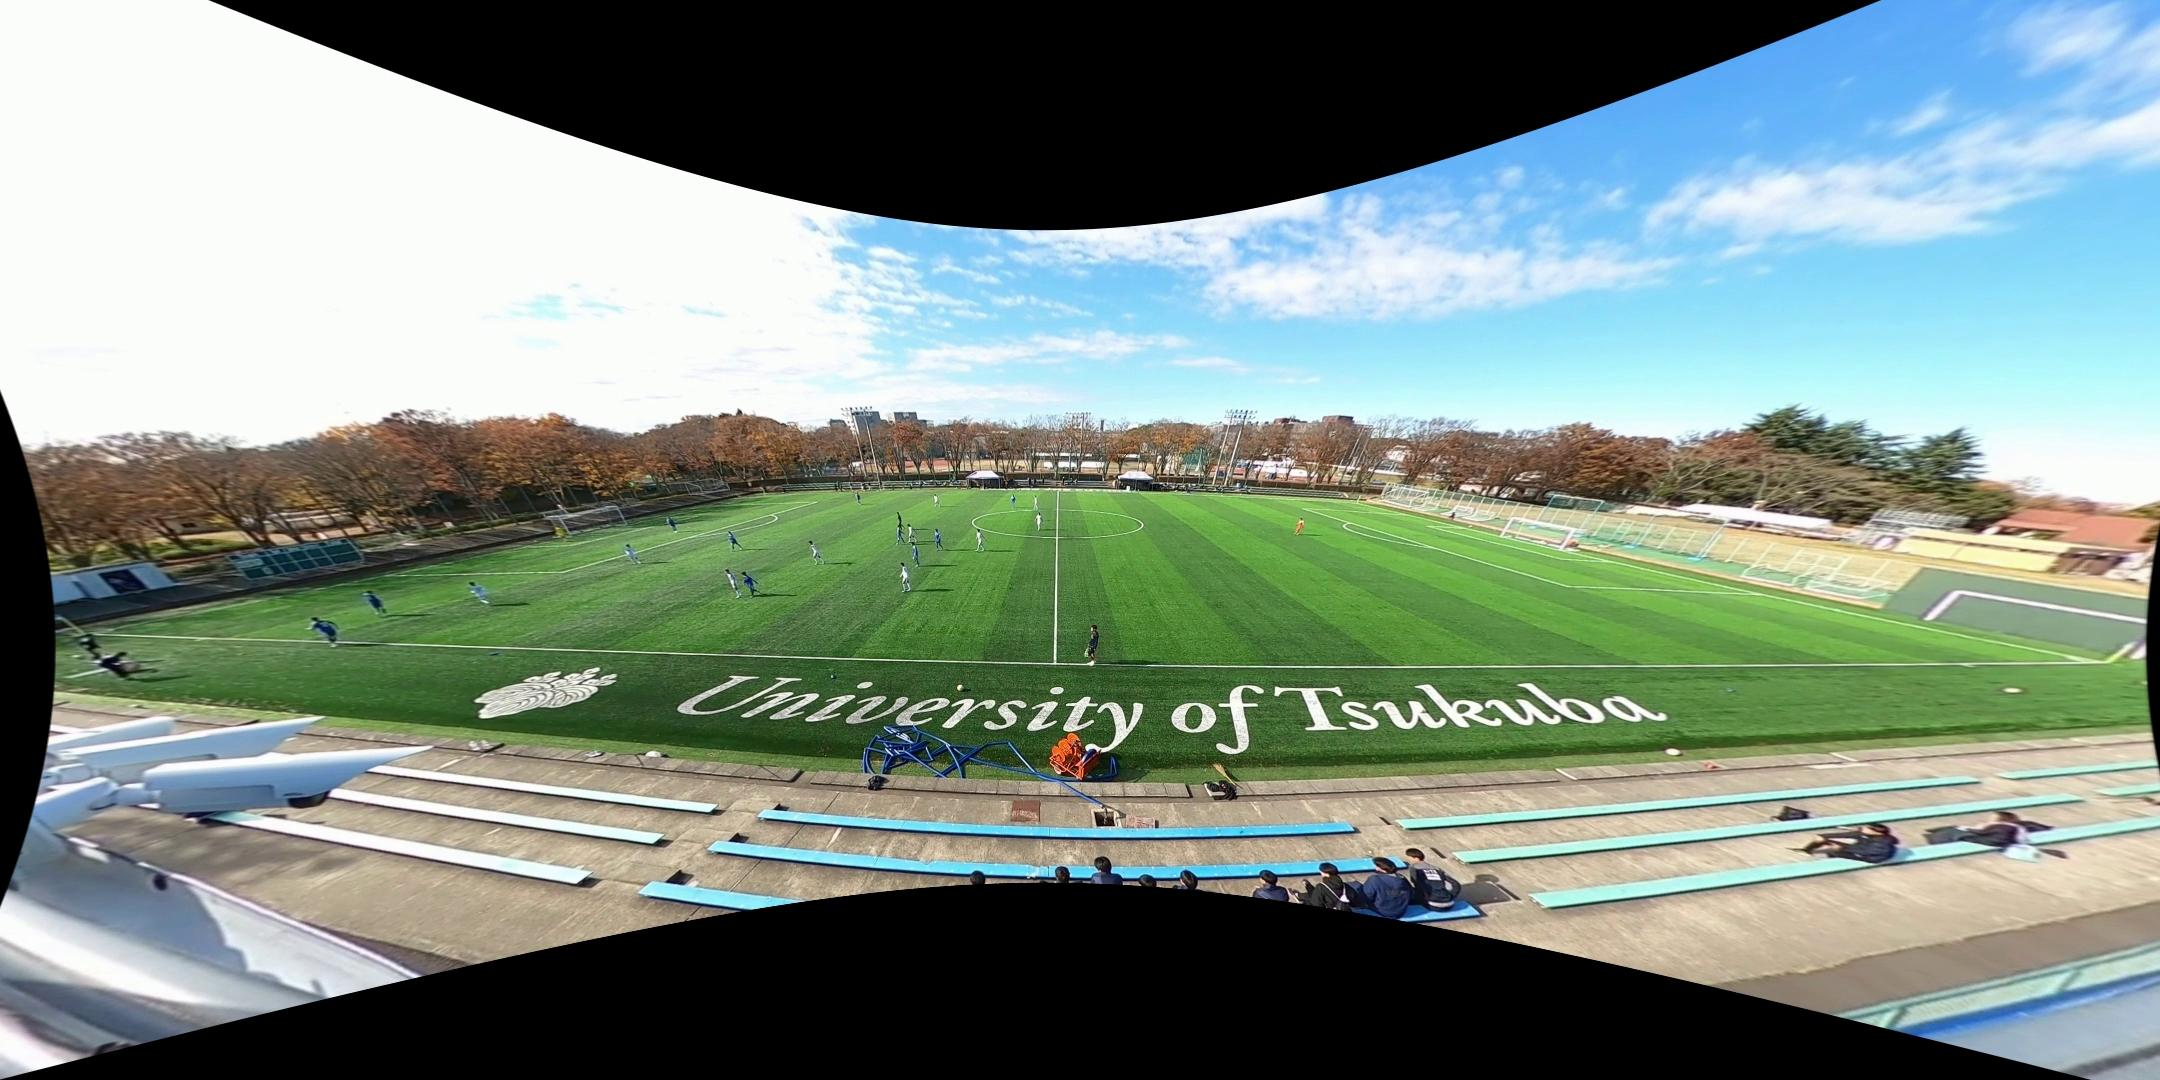person: (303, 615, 341, 648), (1083, 622, 1102, 668), (360, 589, 387, 619), (741, 571, 763, 600), (468, 580, 491, 607), (724, 569, 741, 599), (808, 541, 825, 566), (624, 543, 641, 566), (899, 562, 912, 592), (728, 531, 744, 551), (552, 524, 568, 543), (910, 542, 921, 568), (907, 523, 919, 544), (975, 528, 985, 553), (1293, 517, 1305, 536), (896, 525, 907, 545), (666, 516, 678, 534), (1034, 511, 1044, 532), (935, 528, 944, 551), (896, 511, 905, 530), (1010, 493, 1017, 509), (933, 494, 941, 508), (1032, 495, 1039, 510), (855, 491, 862, 506)
sports ball: (2001, 683, 2024, 696), (1664, 745, 1683, 757)
